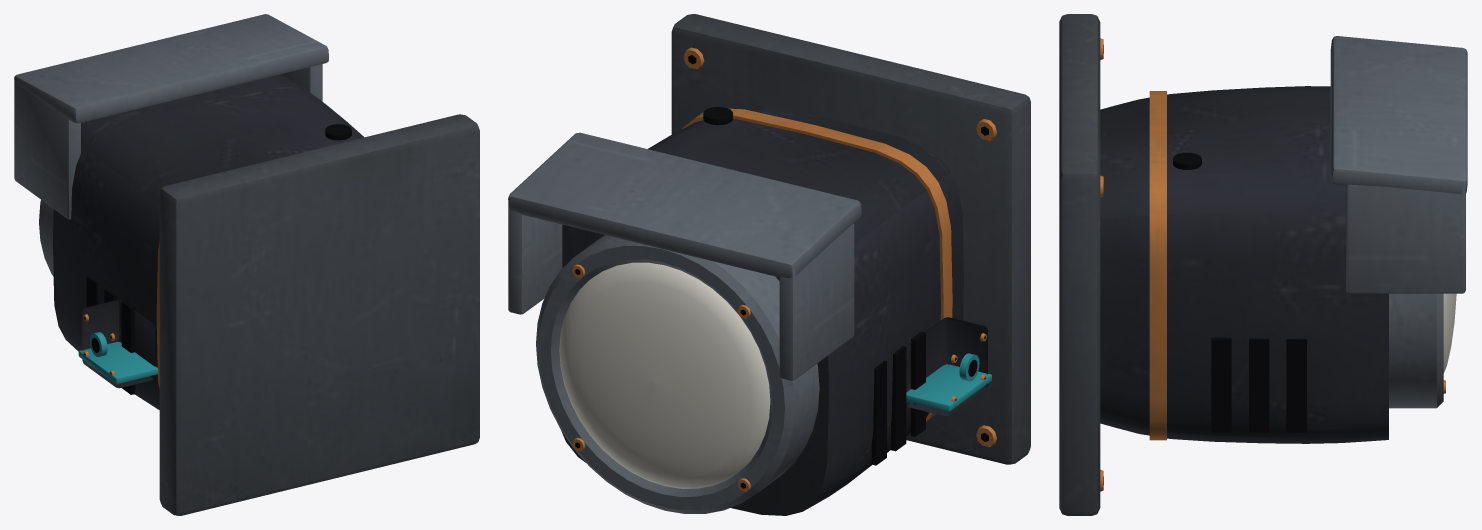
File: headlight.glb
3 views of the same model, side by side, from view 1: azimuth 30°, elevation 25°; view 2: azimuth 150°, elevation 25°; view 3: azimuth 270°, elevation 25° (orthographic). The views are drawn at different scales.
Parts seen in each view (by area): view 1: Body; view 2: Body; view 3: Body.
Part boxes in pixels (box(x1,y1,x2,y2)): Body: box(14, 14, 479, 515); Body: box(508, 14, 1030, 515); Body: box(1059, 14, 1467, 515).
Size of the model in its own units: 0.2333 by 0.224 by 0.2391.
10 materials, 4 textured.
